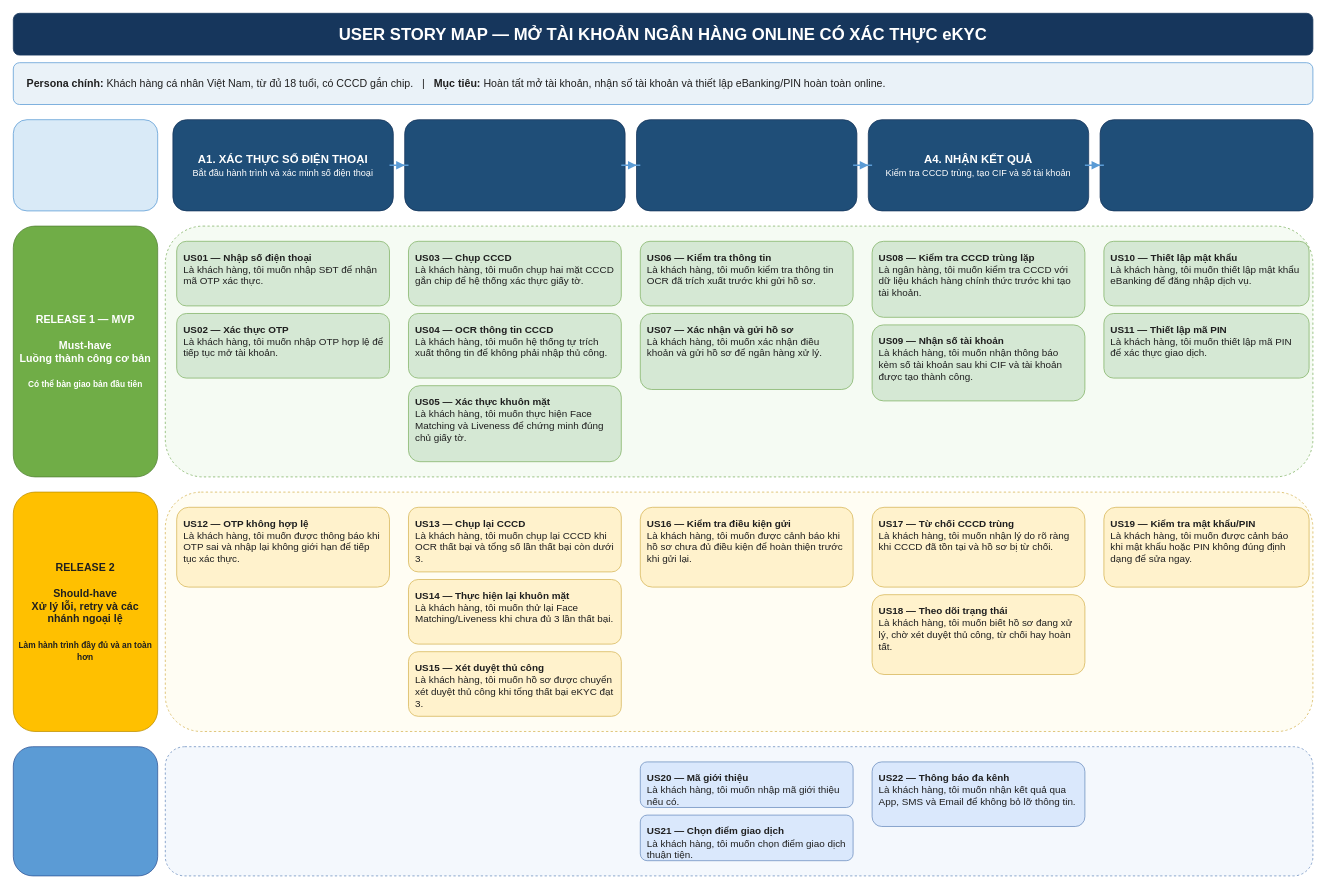
Image size: 1326x889. Some labels were removed from this diagram. The shapes that lost their labels are listed below. From the top down, each one's centre as x and y in pixels, then its label:
the point at 85,165: BACKBONE Các hoạt động chính theo hành trình khách hàng
the point at 514,165: A2. XÁC THỰC eKYC CCCD, OCR, Face Matching và Liveness
the point at 746,165: A3. HOÀN THIỆN VÀ GỬI HỒ SƠ Kiểm tra thông tin, xác nhận điều khoản
the point at 1206,165: A5. THIẾT LẬP eBANKING Tạo mật khẩu và mã PIN giao dịch
the point at 85,811: RELEASE 3 Could-have Tiện ích và cải tiến trải nghiệm
